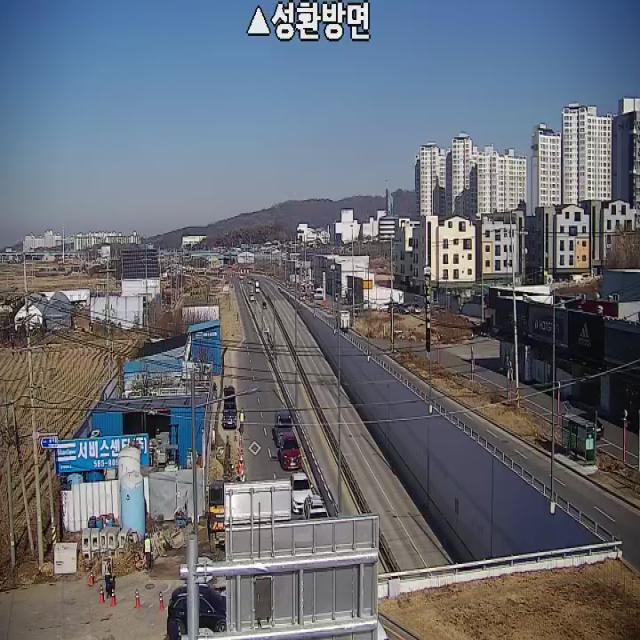Car: (167, 586, 226, 640), (290, 472, 314, 514), (278, 432, 302, 470), (572, 414, 604, 442), (272, 410, 292, 447), (303, 495, 329, 520), (262, 300, 268, 310)
Truck: (221, 386, 236, 430), (336, 310, 350, 330), (255, 281, 260, 293)
